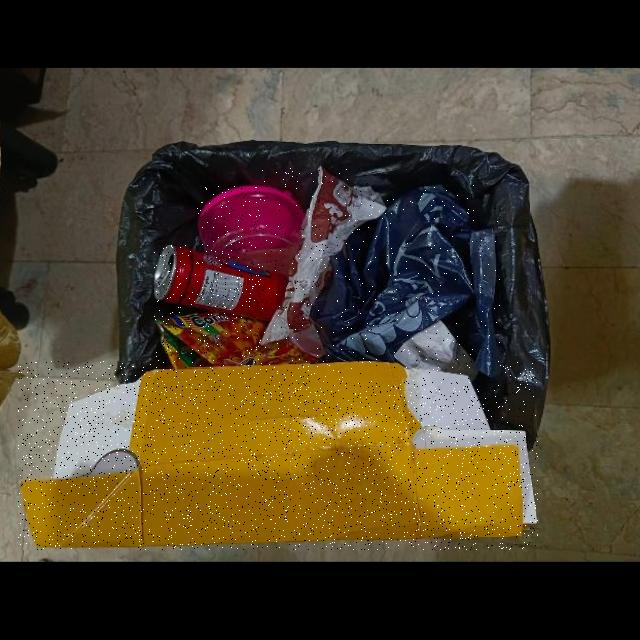glass: (197, 186, 307, 280)
metal: (154, 246, 287, 321)
paper: (19, 362, 538, 550), (261, 167, 388, 361)
plastic: (311, 185, 500, 381)
wrapper: (156, 313, 319, 368)
